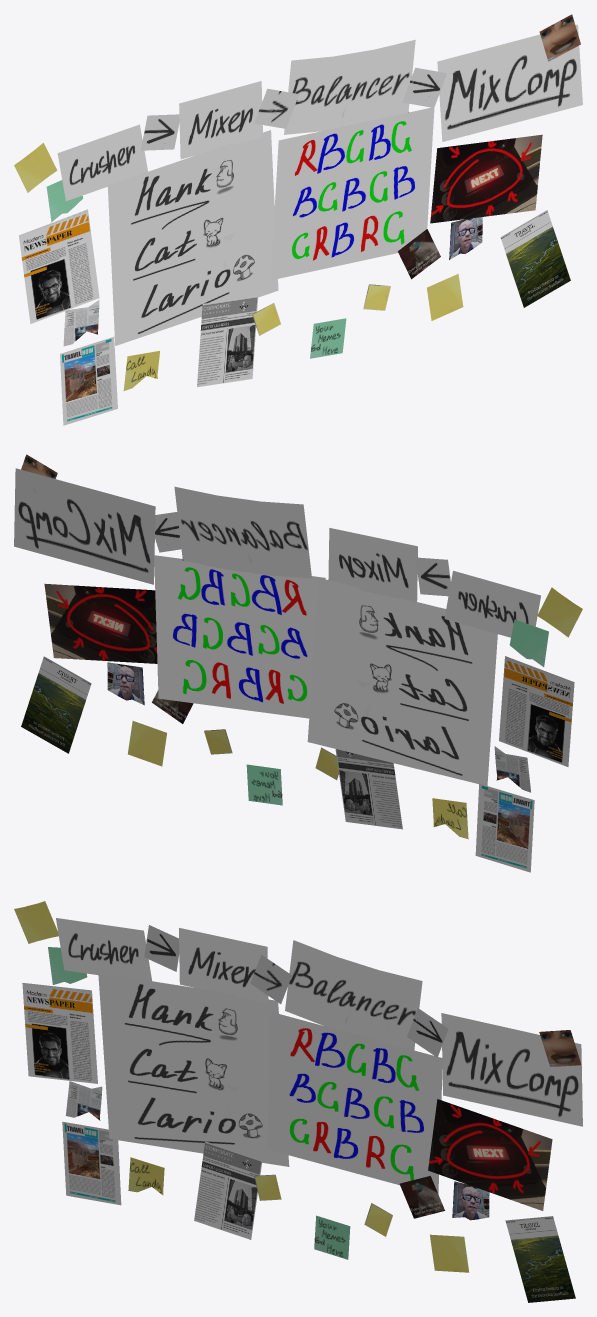
File: UPD BP.fbx
3 views of the same model, one above another, from view 1: azimuth 30°, elevation 25°; view 2: azimuth 150°, elevation 25°; view 3: azimuth 330°, elevation 25° (orthographic).
Parts seen in each view (by area): view 1: Board Paper; view 2: Board Paper; view 3: Board Paper.
Boxes of the visible parts, bbox=[...] form: Board Paper: bbox=[14, 14, 582, 425]; Board Paper: bbox=[14, 454, 582, 872]; Board Paper: bbox=[14, 901, 582, 1302].
Bounding box in the file's own units: 1477 × 772 × 45.26.
4 materials, 4 textured.
